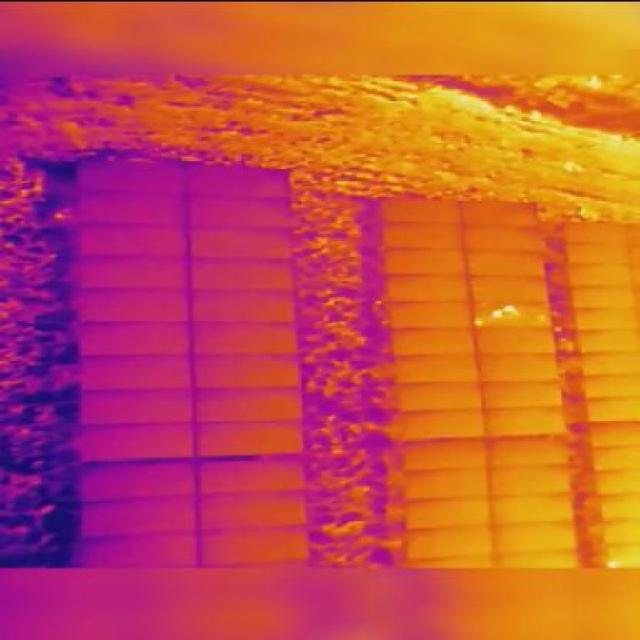hotspot: (505, 301, 520, 313), (490, 307, 504, 318), (476, 318, 484, 324)
